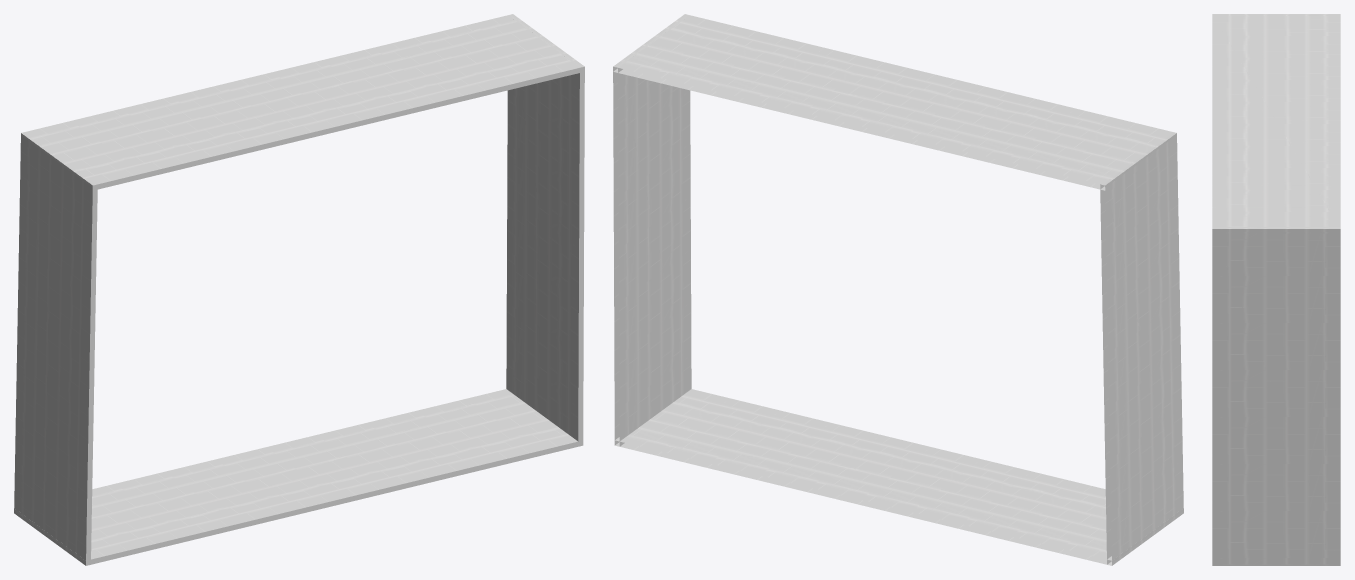
Rendered from wall_1.obj.
The picture shows the model from 3 angles, left to right: view 1: azimuth 30°, elevation 25°; view 2: azimuth 150°, elevation 25°; view 3: azimuth 270°, elevation 25°; orthographic projection. The views are drawn at different scales.
Visible parts, largest first — view 1: walls; view 2: walls; view 3: walls.
Boxes of the visible parts, x1,y1,x2,y2 form: walls: [14, 14, 584, 565]; walls: [613, 14, 1183, 565]; walls: [1212, 14, 1340, 565].
Size of the model in its own units: 10.02 by 7.29 by 2.5.
